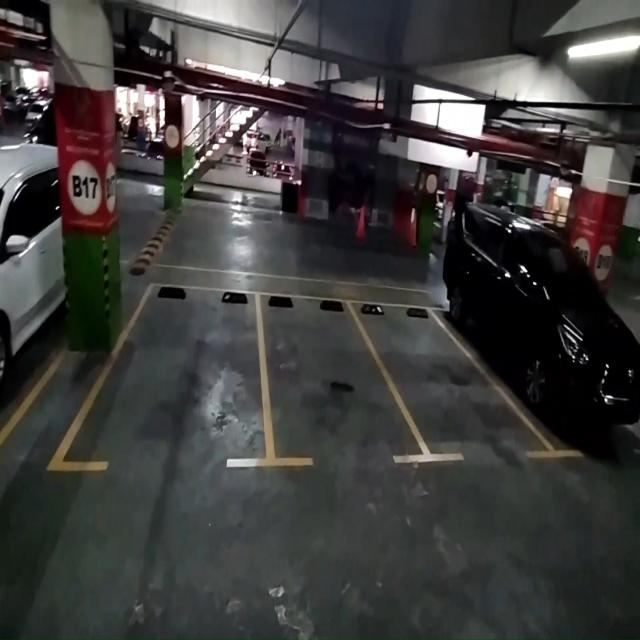empty: (85, 282, 264, 470), (258, 296, 382, 463), (380, 301, 500, 462)
